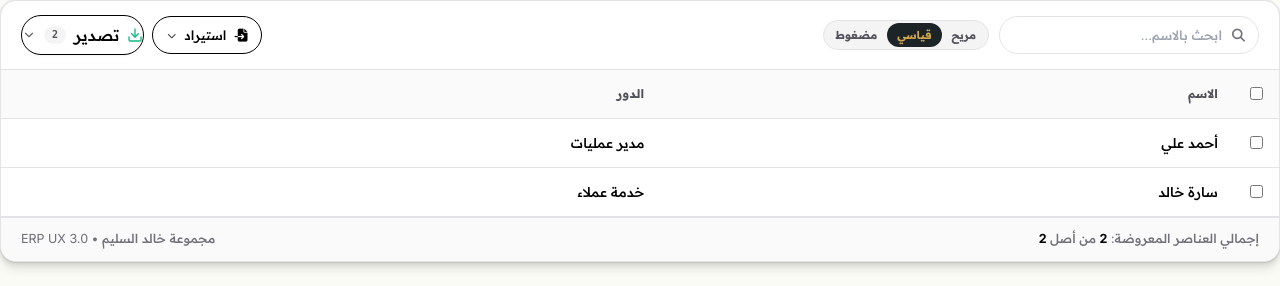
Test: DataTable Component › should filter rows based on search input
The image size is (1280, 286).
In the field with placeholder "ابحث بالاسم...": x=1129, y=35 [999,16,1259,54], type "سارة"
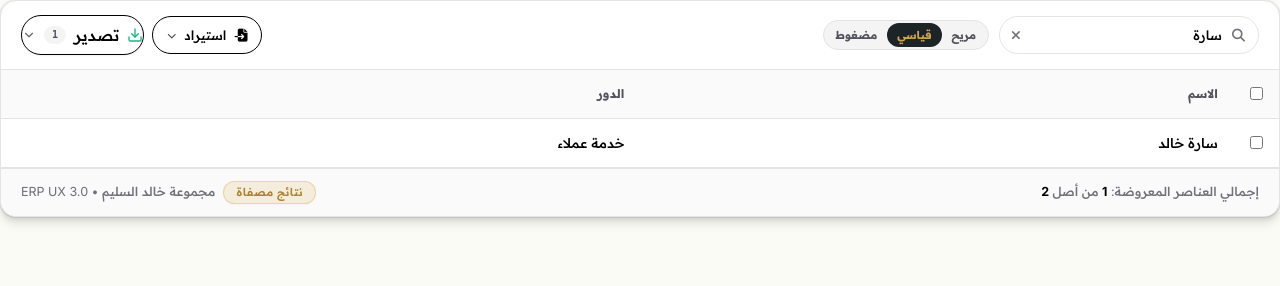
Expected: the text "سارة خالد" is shown, [641,118,1234,168]
Expected: the text "أحمد علي" is gone
